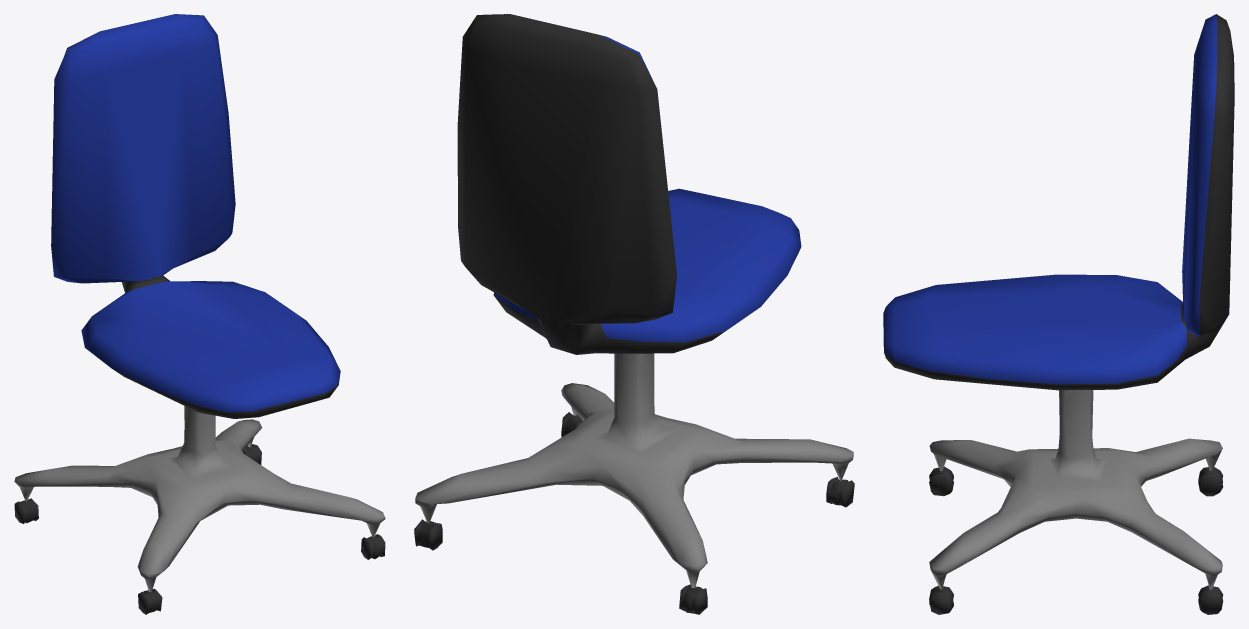
The model's file is GAMEJAMHERO - Prop(Office Wheelie Chair).fbx.
3 renders of one model, left to right at view 1: azimuth 30°, elevation 25°; view 2: azimuth 150°, elevation 25°; view 3: azimuth 270°, elevation 25°, orthographic. The views are drawn at different scales.
Visible parts, largest first — view 1: Cube.023; view 2: Cube.023; view 3: Cube.023.
Part boxes in pixels (<box>): Cube.023: <box>14,14,385,614</box>; Cube.023: <box>414,14,854,614</box>; Cube.023: <box>883,14,1234,614</box>.
Bounding box in the file's own units: 106 × 196 × 122.
1 material, 1 textured.
